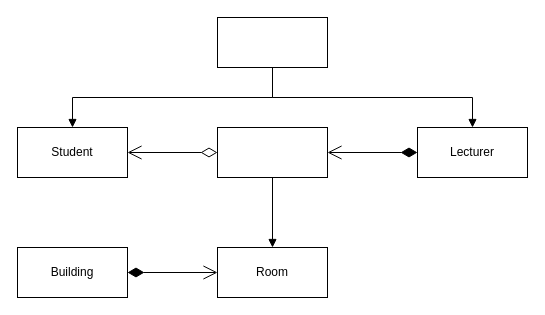
Some shapes in this 545 by 315 pixel diagram are drawn without their labels. The centre of each missing label's shape, as x and y in pixels:
Lecture: (272,152)
Person: (272,42)
